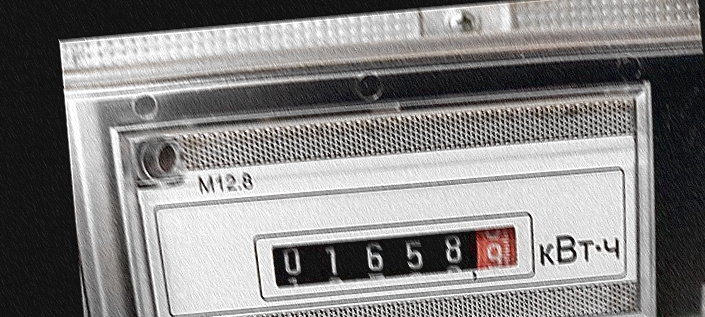0: (278, 242, 301, 276)
1: (322, 243, 338, 275)
5: (402, 236, 423, 270)
6: (362, 239, 384, 271)
8: (440, 231, 462, 265)
9: (481, 239, 501, 267)
screen: (243, 201, 540, 306)
